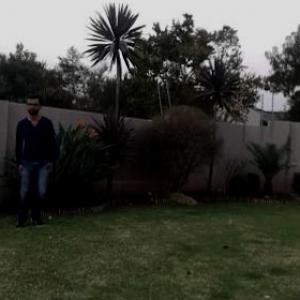follow: (13, 89, 55, 235)
